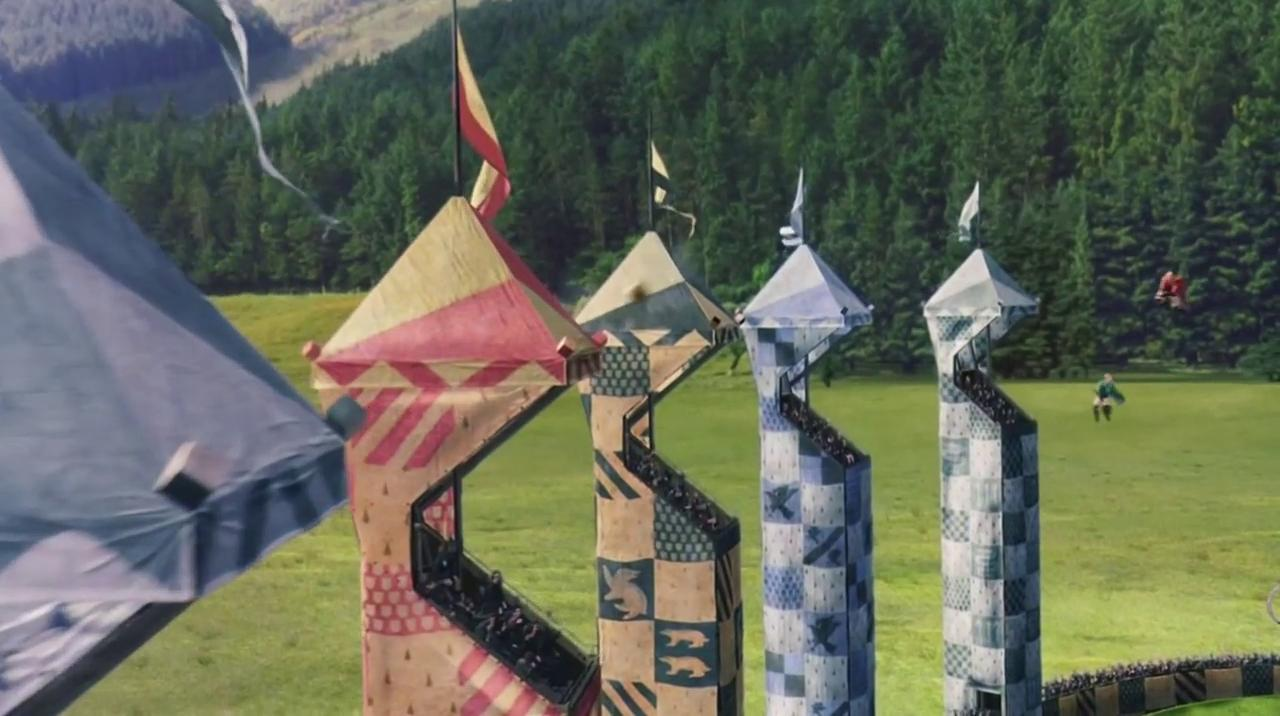snitch: (626, 280, 648, 304)
